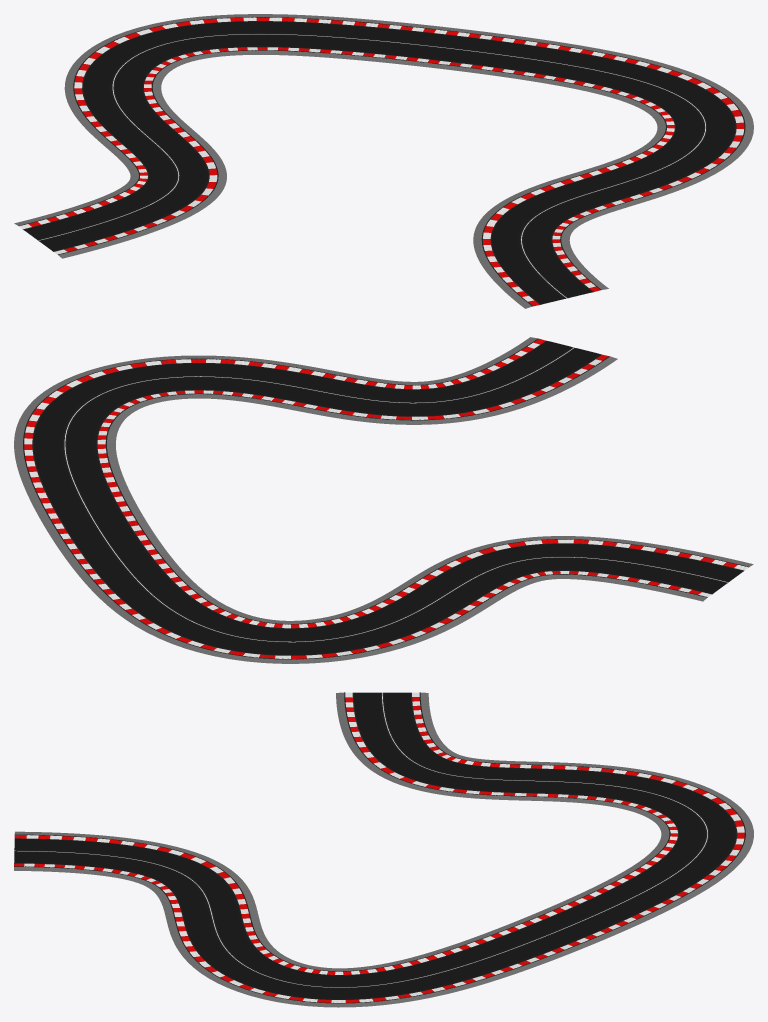
File: S0.Group.202.export.A1R1H0cornRsoft.glb
3 views of the same model, one above another, from view 1: azimuth 30°, elevation 25°; view 2: azimuth 150°, elevation 25°; view 3: azimuth 270°, elevation 25° (orthographic). The views are drawn at different scales.
Visible parts, largest first — view 1: Grid; view 2: Grid; view 3: Grid.
Boxes of the visible parts, x1=… form: Grid: x1=14, y1=14, x2=753, y2=308; Grid: x1=14, y1=337, x2=753, y2=663; Grid: x1=14, y1=692, x2=753, y2=1007.
Size of the model in its own units: 201 by 0.3287 by 199.
